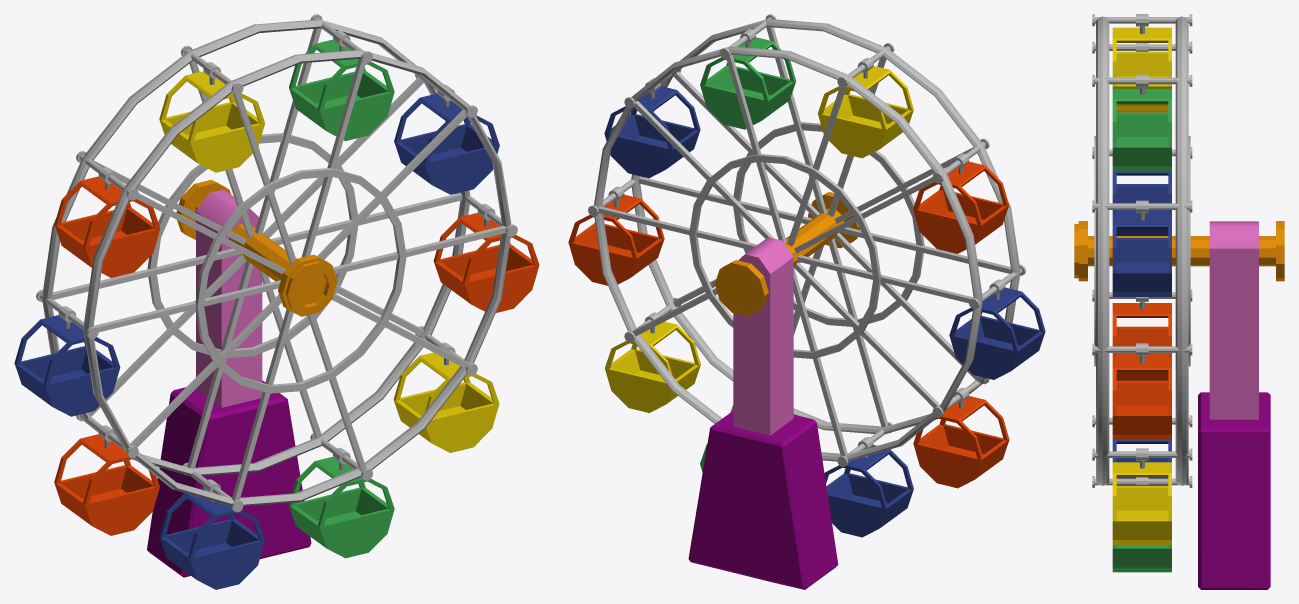
The model's file is ferrisWheel_MD.fbx.
3 renders of one model, left to right at view 1: azimuth 30°, elevation 25°; view 2: azimuth 150°, elevation 25°; view 3: azimuth 270°, elevation 25°, orthographic. The views are drawn at different scales.
Parts seen in each view (by area): view 1: rotation, vertical, body17, body15, body13, body19, body1, body5, body9, body11, body7, body3; view 2: rotation, vertical, body17, body19, body15, body11, body7, body1, body3, body5, body9; view 3: vertical, rotation, body5, body9, body7, body11, body3, body17, body19, body13, body15.
Boxes of the visible parts, <box> form: rotation: <box>36,14,517,512</box>; vertical: <box>147,189,311,577</box>; body17: <box>54,434,159,535</box>; body15: <box>159,488,264,589</box>; body13: <box>289,456,394,558</box>; body19: <box>14,315,120,416</box>; body1: <box>54,176,160,277</box>; body5: <box>289,39,394,141</box>; body9: <box>433,212,539,312</box>; body11: <box>393,352,499,452</box>; body7: <box>394,93,499,194</box>; body3: <box>159,71,264,172</box>; rotation: <box>588,14,1025,466</box>; vertical: <box>688,237,838,589</box>; body17: <box>913,396,1009,488</box>; body19: <box>949,287,1045,379</box>; body15: <box>824,445,913,537</box>; body11: <box>605,321,700,412</box>; body7: <box>604,86,700,178</box>; body1: <box>913,161,1009,253</box>; body3: <box>817,66,913,158</box>; body5: <box>700,37,795,129</box>; body9: <box>568,194,664,285</box>; vertical: <box>1198,221,1270,589</box>; rotation: <box>1074,14,1284,487</box>; body5: <box>1112,87,1171,171</box>; body9: <box>1112,355,1171,439</box>; body7: <box>1112,213,1171,296</box>; body11: <box>1112,461,1171,544</box>; body3: <box>1112,26,1171,110</box>; body17: <box>1112,302,1171,380</box>; body19: <box>1112,171,1171,235</box>; body13: <box>1112,545,1171,572</box>; body15: <box>1112,440,1171,485</box>.
Bounding box in the file's own units: 9.56 × 10.07 × 3.67.
